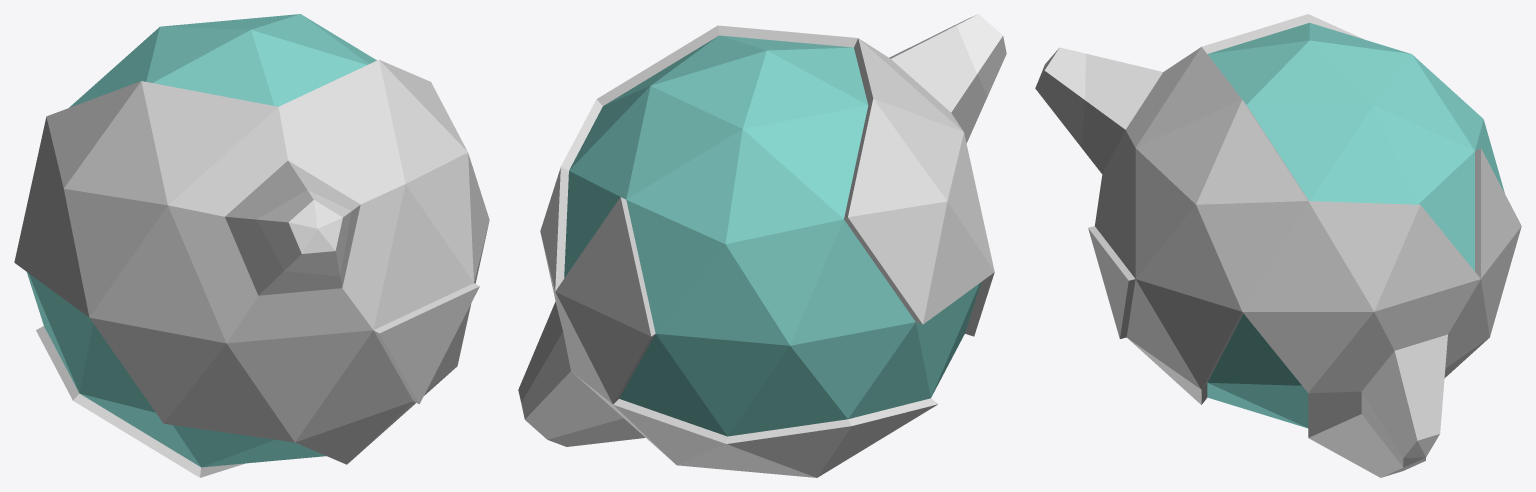
File: Earth.fbx
The picture shows the model from 3 angles, left to right: view 1: azimuth 30°, elevation 25°; view 2: azimuth 150°, elevation 25°; view 3: azimuth 270°, elevation 25°; orthographic projection. The views are drawn at different scales.
Visible parts, largest first — view 1: Icosphere; view 2: Icosphere; view 3: Icosphere.
Part boxes in pixels (x1,y1,x2,y2): Icosphere: [14, 14, 489, 477]; Icosphere: [518, 14, 1006, 477]; Icosphere: [1035, 14, 1521, 477].
Size of the model in its own units: 3.8 by 3.92 by 4.56.
